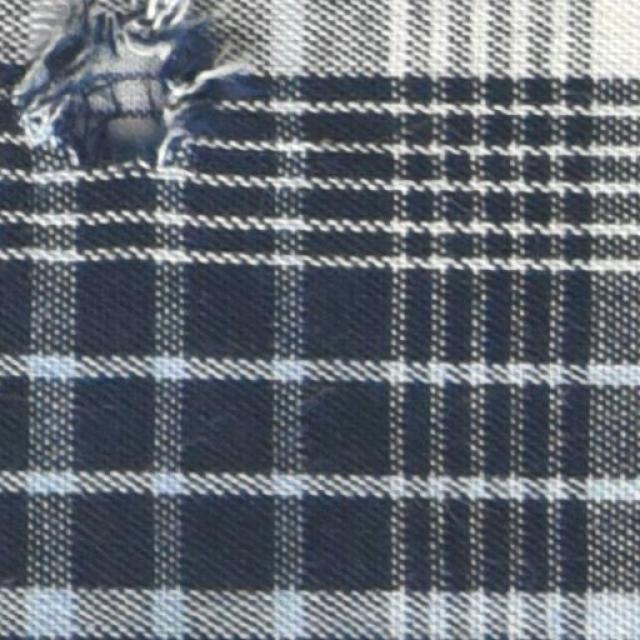Hole: (95, 52, 166, 149)
Snag: (0, 1, 234, 178)
